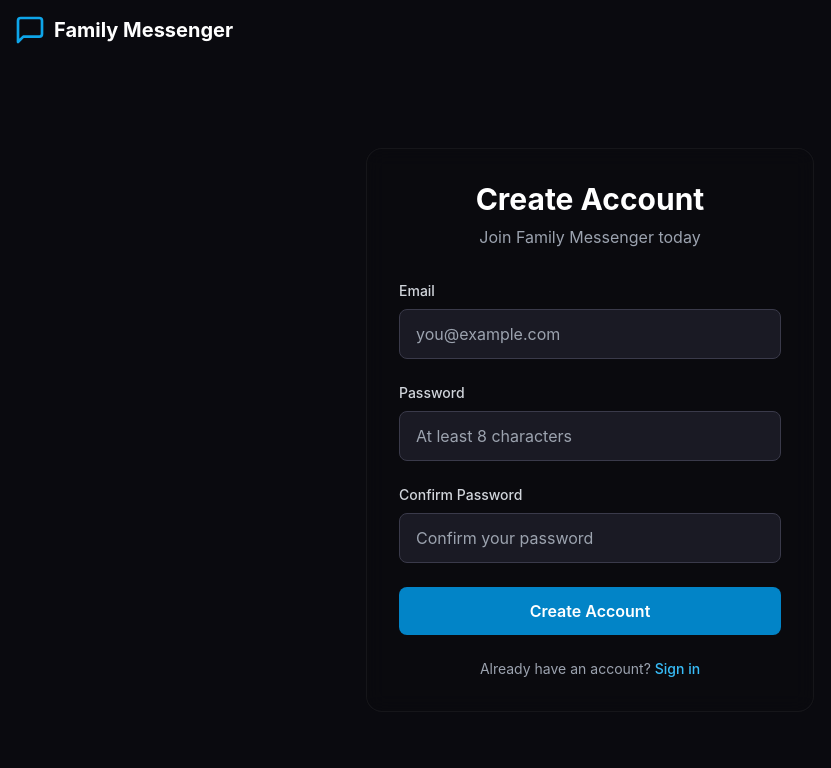
Scenario: Signup Page › shows error when password is too short
This screenshot has width=831, height=768.
Type "test@example.com" into the field labelled "Email" at (590, 334), box [399,309,781,359]
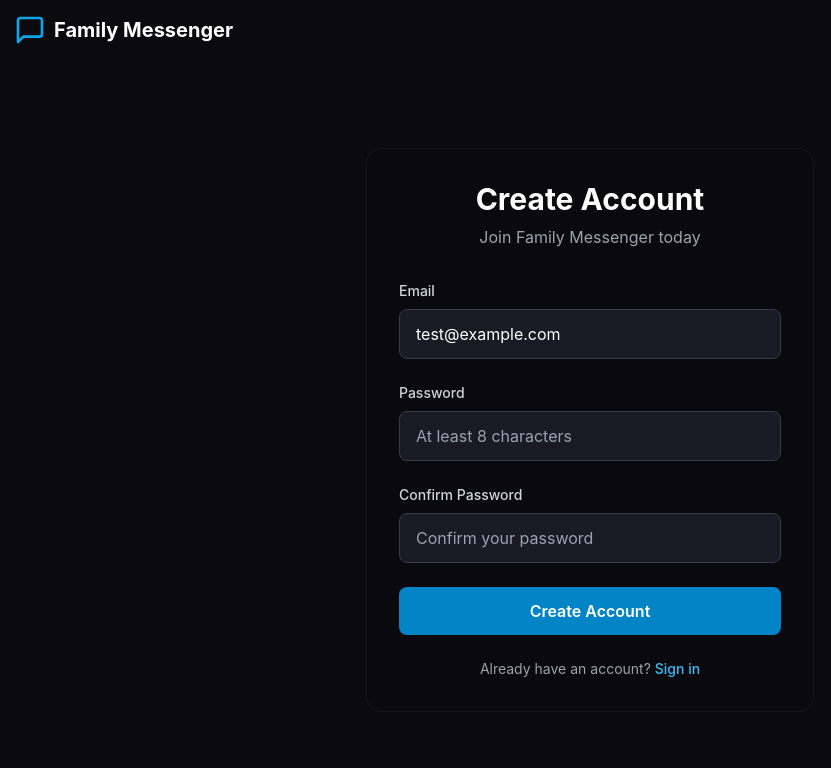
Type "short" into the password field labelled "Password" at (590, 436), box [399,411,781,461]
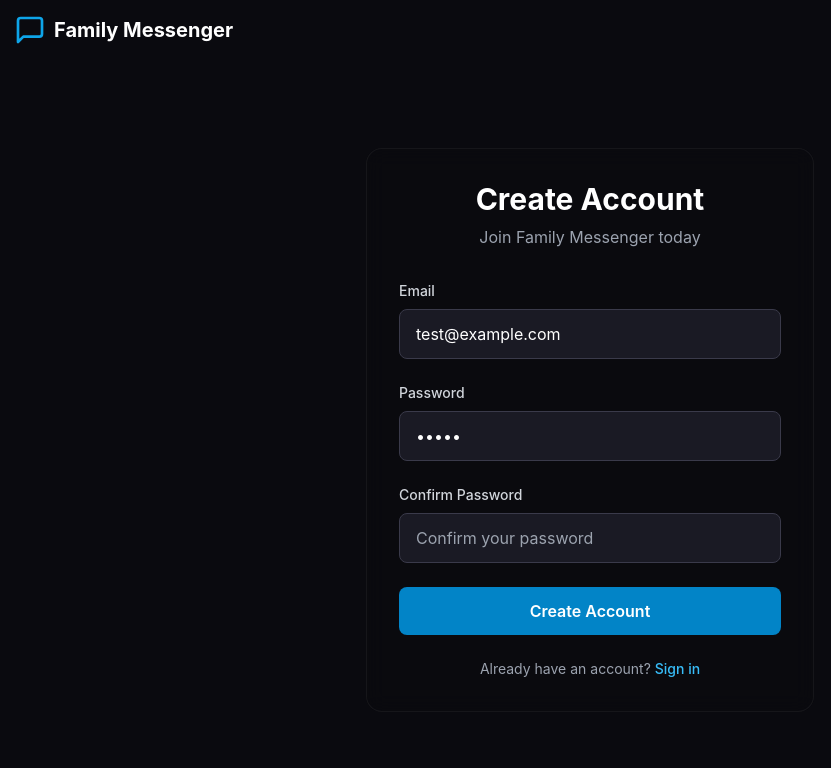
Type "short" into the password field labelled "Confirm Password" at (590, 538), box [399,513,781,563]
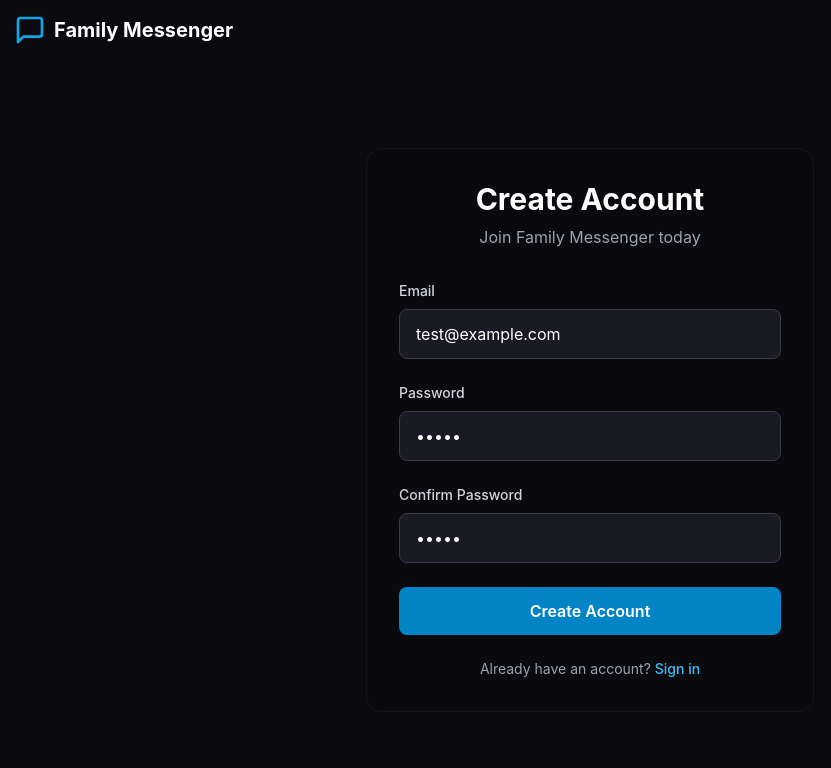
Click the button "Create Account" at (590, 611), box [399,587,781,635]
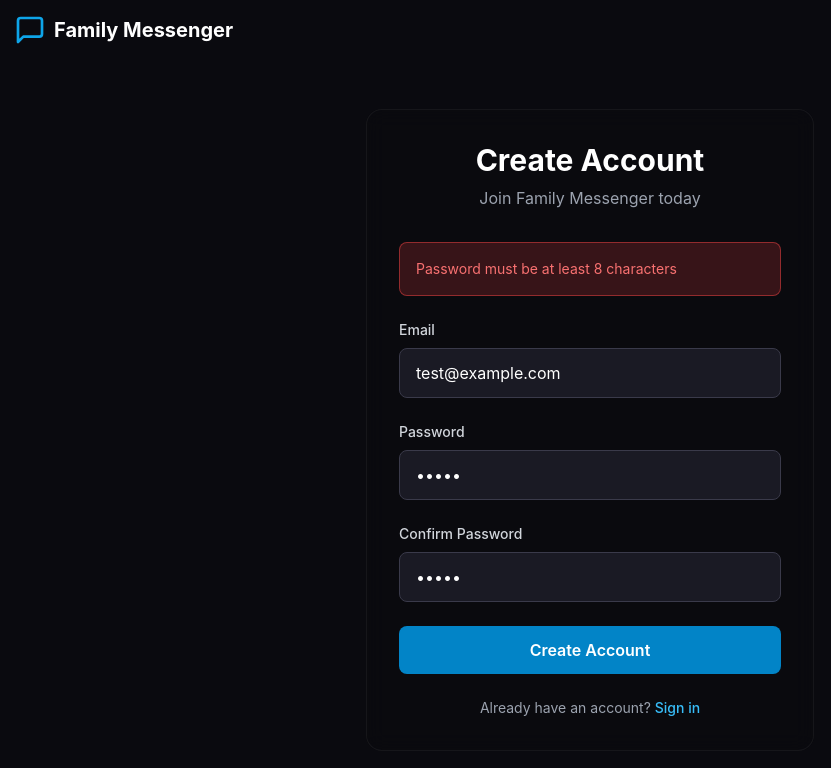
Now the text "Password must be at least 8 characters" is shown, box [399,242,781,296]
